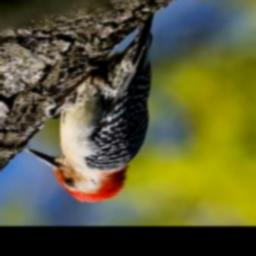Woodpecker: (21, 16, 153, 203)
